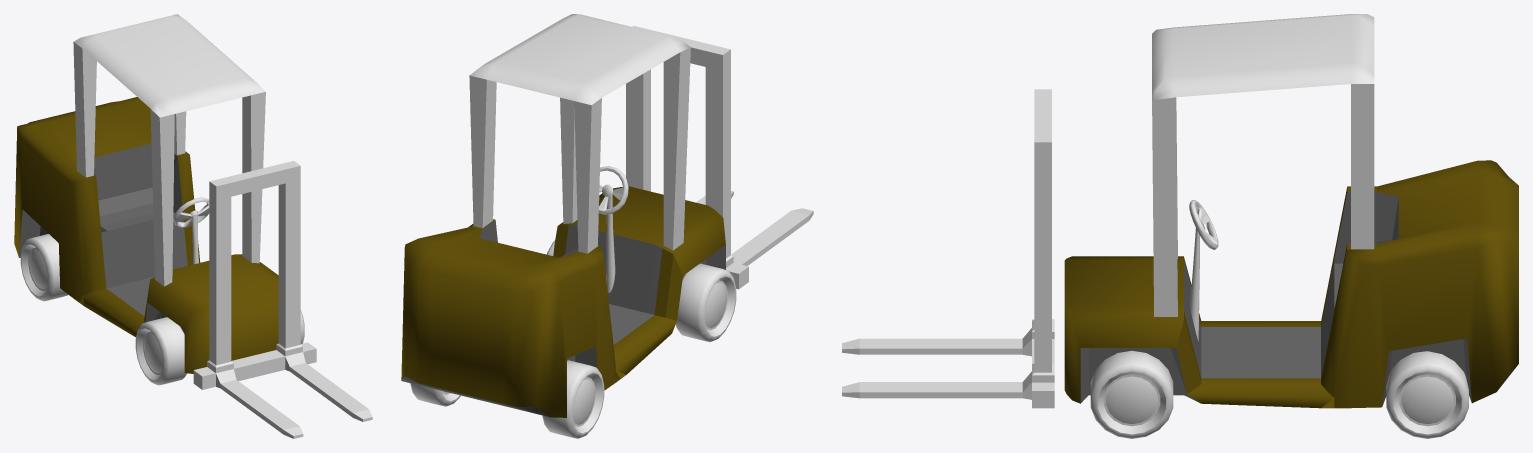
File: Forklift.fbx
3 renders of one model, left to right at view 1: azimuth 30°, elevation 25°; view 2: azimuth 150°, elevation 25°; view 3: azimuth 270°, elevation 25°, orthographic. The views are drawn at different scales.
Parts seen in each view (by area): view 1: Chassis, Roof, Forks, FRWheel, BRWheel, SteeringWheel; view 2: Chassis, Roof, Forks, FRWheel, BRWheel, SteeringWheel, BLWheel; view 3: Chassis, Roof, Forks, FLWheel, BLWheel, SteeringWheel.
Part boxes in pixels (x1,y1,x2,y2): Chassis: [14, 97, 278, 373]; Roof: [73, 14, 265, 286]; Forks: [193, 161, 372, 438]; FRWheel: [135, 317, 187, 385]; BRWheel: [20, 234, 68, 301]; SteeringWheel: [173, 197, 209, 264]; Chassis: [401, 186, 725, 417]; Roof: [469, 14, 690, 253]; Forks: [626, 26, 813, 289]; FRWheel: [675, 263, 736, 342]; BRWheel: [542, 360, 604, 438]; SteeringWheel: [598, 166, 628, 292]; BLWheel: [410, 383, 460, 406]; Chassis: [1064, 160, 1518, 408]; Roof: [1152, 14, 1374, 316]; Forks: [842, 89, 1054, 408]; FLWheel: [1090, 350, 1173, 438]; BLWheel: [1386, 351, 1468, 438]; SteeringWheel: [1189, 200, 1218, 341].
Size of the model in its own units: 0.8038 by 1.51 by 2.59.
Materials: 1 (1 with a texture image).
